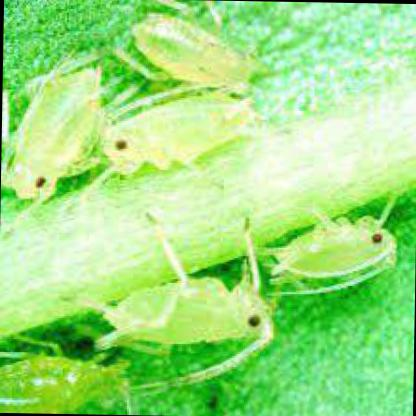schizaphis graminum: (102, 252, 273, 345), (103, 92, 260, 173), (7, 70, 99, 200), (134, 15, 258, 98), (275, 218, 393, 278)
